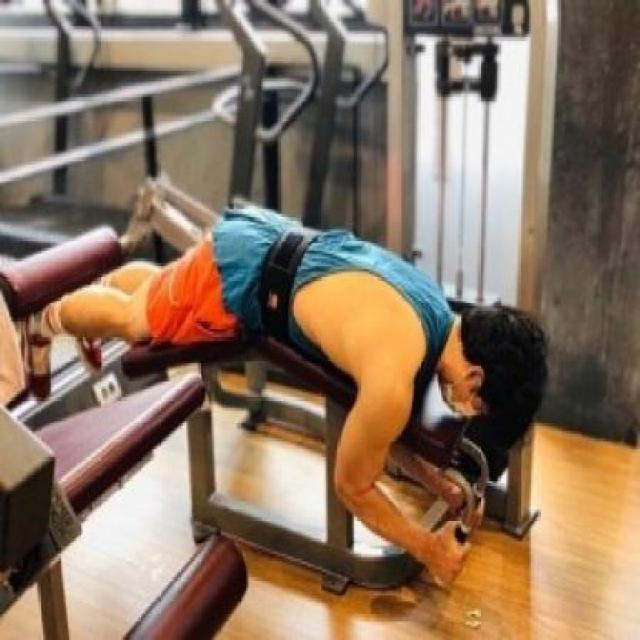reg curl machine: (0, 0, 555, 587)
